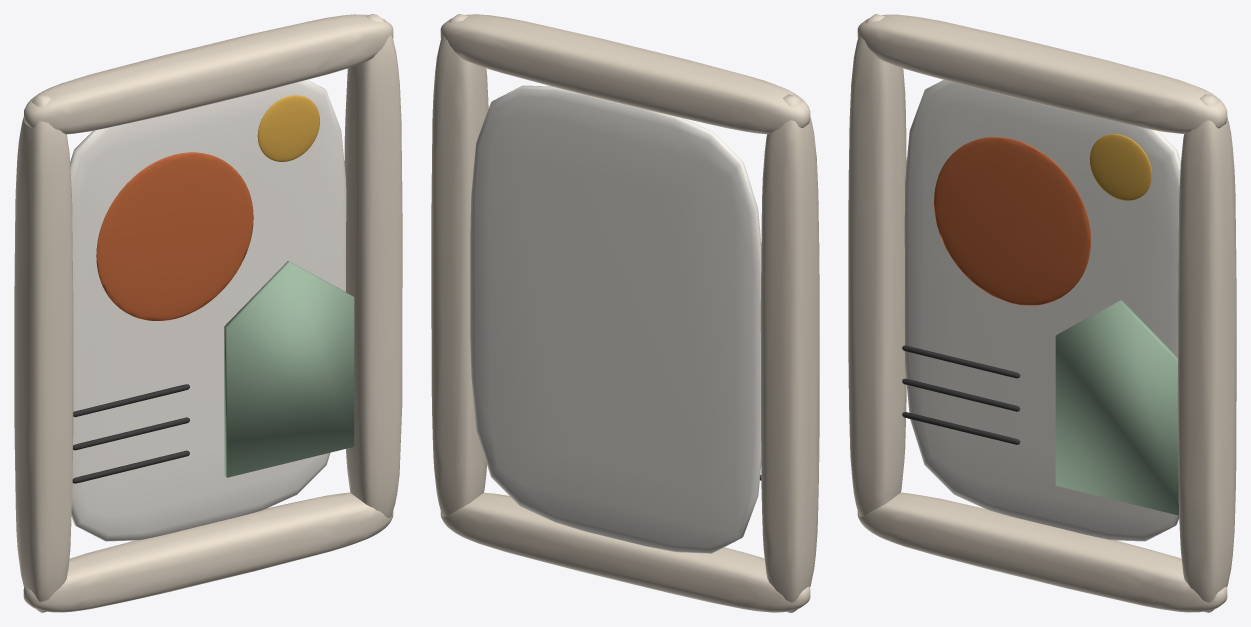
Rendered from deco_cuadro_geometrico.glb.
3 views of the same model, side by side, from view 1: azimuth 30°, elevation 25°; view 2: azimuth 150°, elevation 25°; view 3: azimuth 330°, elevation 25° (orthographic).
Visible parts, largest first — view 1: lienzo.023, marco vertical.046, marco vertical.047, arco salvia.001, círculo terracota.001, marco horizontal.047, marco horizontal.046, sol mostaza.001, línea 2.001, línea 0.001, línea 1.001; view 2: lienzo.023, marco vertical.046, marco vertical.047, marco horizontal.047, marco horizontal.046; view 3: lienzo.023, marco vertical.047, marco vertical.046, arco salvia.001, círculo terracota.001, marco horizontal.047, marco horizontal.046, sol mostaza.001, línea 2.001, línea 0.001, línea 1.001.
Part boxes in pixels (x1,y1,x2,y2): lienzo.023: [70, 80, 346, 541]; marco vertical.046: [14, 94, 73, 612]; marco vertical.047: [344, 14, 402, 517]; arco salvia.001: [224, 261, 354, 477]; círculo terracota.001: [96, 152, 253, 320]; marco horizontal.047: [24, 14, 393, 134]; marco horizontal.046: [23, 492, 393, 612]; sol mostaza.001: [257, 95, 319, 161]; línea 2.001: [72, 450, 189, 483]; línea 0.001: [73, 384, 189, 417]; línea 1.001: [73, 417, 189, 450]; lienzo.023: [470, 85, 761, 553]; marco vertical.046: [760, 94, 819, 612]; marco vertical.047: [431, 14, 488, 516]; marco horizontal.047: [440, 14, 810, 134]; marco horizontal.046: [440, 492, 810, 612]; lienzo.023: [904, 80, 1180, 541]; marco vertical.047: [1177, 94, 1236, 612]; marco vertical.046: [848, 14, 906, 517]; arco salvia.001: [1055, 300, 1178, 515]; círculo terracota.001: [934, 137, 1090, 305]; marco horizontal.047: [857, 14, 1227, 134]; marco horizontal.046: [857, 492, 1227, 612]; sol mostaza.001: [1089, 134, 1151, 200]; línea 2.001: [902, 412, 1020, 444]; línea 0.001: [902, 345, 1020, 378]; línea 1.001: [902, 378, 1020, 411].
Bounding box in the file's own units: 0.4696 × 0.6298 × 0.0597.
